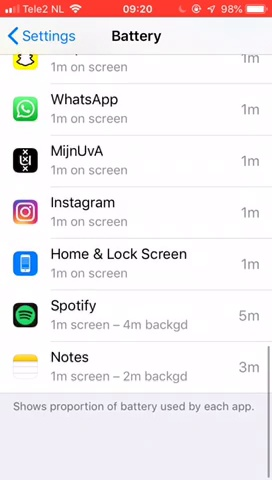app: (14, 143, 264, 177), (14, 194, 264, 228), (11, 247, 261, 281), (13, 296, 263, 330), (11, 349, 261, 383)
